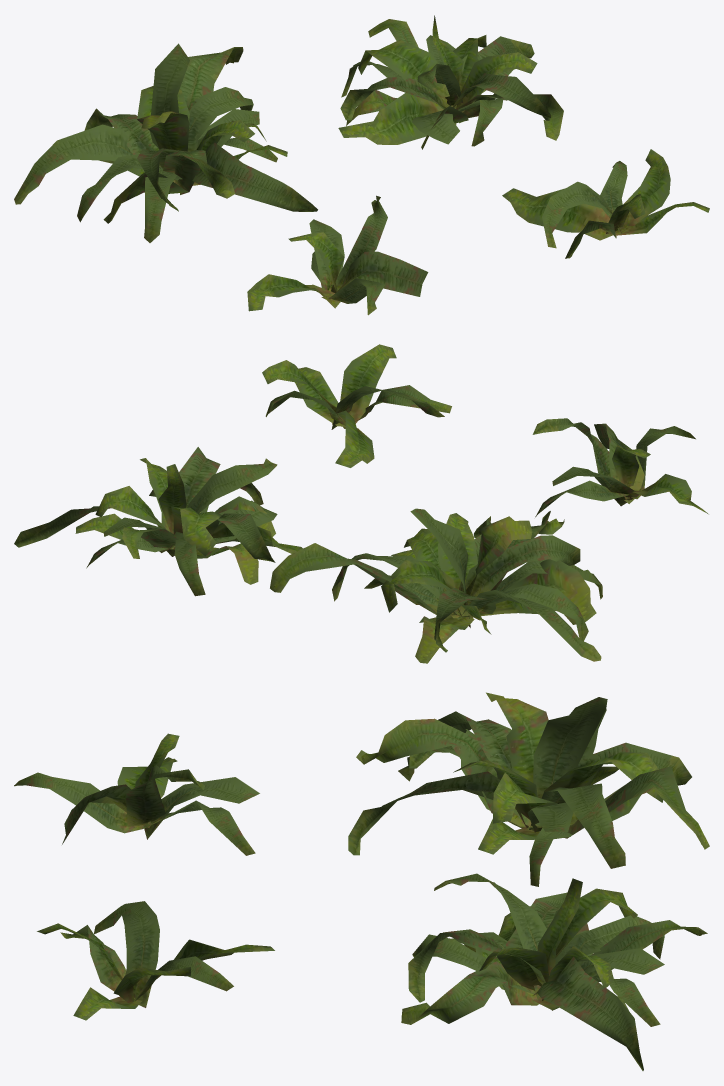
The model's file is fern_02.glb.
3 views of the same model, one above another, from view 1: azimuth 30°, elevation 25°; view 2: azimuth 150°, elevation 25°; view 3: azimuth 270°, elevation 25° (orthographic). The views are drawn at different scales.
Parts seen in each view (by area): view 1: fern_02_b; view 2: fern_02_b; view 3: fern_02_b.
Boxes of the visible parts, left/top/right/bottom form: fern_02_b: left=14, top=15, right=709, bottom=315; fern_02_b: left=14, top=344, right=708, bottom=663; fern_02_b: left=14, top=692, right=709, bottom=1070.
Size of the model in its own units: 1.97 by 0.4276 by 1.72.
Materials: 1 (1 with a texture image).
